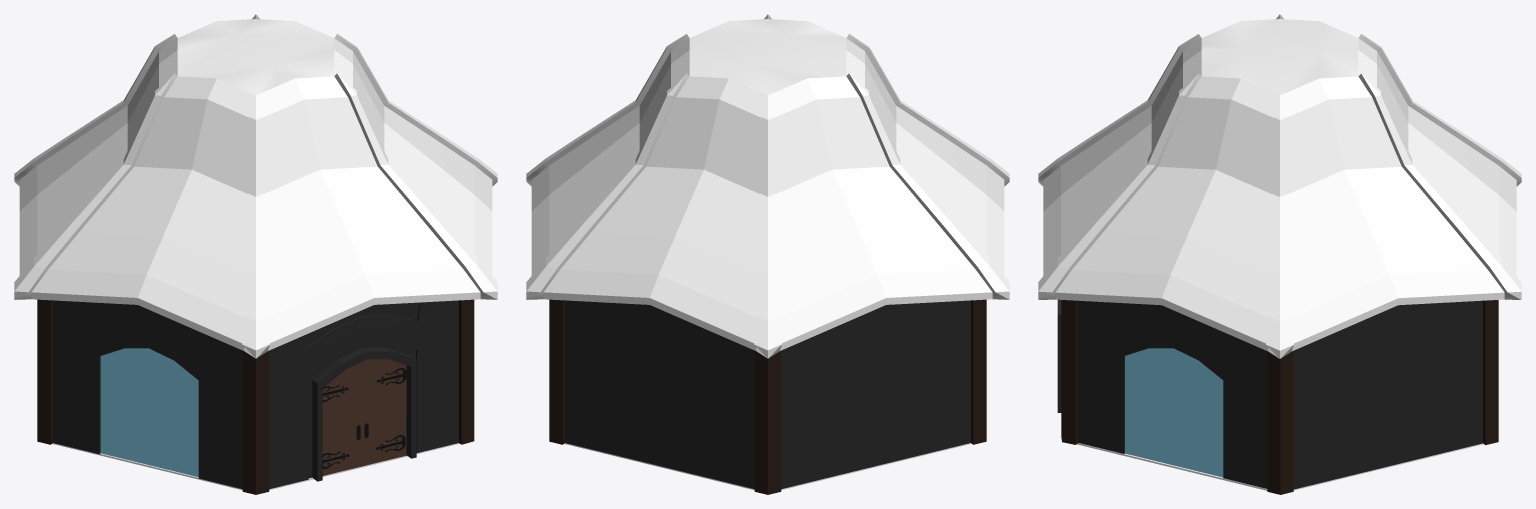
File: officewroof.fbx
3 renders of one model, left to right at view 1: azimuth 30°, elevation 25°; view 2: azimuth 150°, elevation 25°; view 3: azimuth 270°, elevation 25°, orthographic.
Parts seen in each view (by area): view 1: roof, polySurface14, polySurface15, polySurface11, rightdoor, polySurface19, leftdoor, polySurface25, polySurface20, hinges, floor; view 2: roof, polySurface35, polySurface37, polySurface27, polySurface25, polySurface29, floor; view 3: roof, polySurface39, polySurface17, polySurface7, polySurface30, polySurface20, polySurface29, floor, polySurface14.
Boxes of the visible parts, x1,y1,x2,y2 form: roof: [14, 14, 497, 358]; polySurface14: [269, 300, 458, 488]; polySurface15: [53, 300, 242, 488]; polySurface11: [100, 348, 198, 476]; rightdoor: [362, 359, 406, 466]; polySurface19: [242, 351, 269, 494]; leftdoor: [322, 361, 362, 475]; polySurface25: [37, 299, 52, 444]; polySurface20: [459, 299, 474, 444]; hinges: [322, 368, 406, 468]; floor: [52, 443, 459, 490]; roof: [526, 14, 1009, 358]; polySurface35: [781, 300, 970, 488]; polySurface37: [565, 300, 754, 488]; polySurface27: [754, 351, 781, 494]; polySurface25: [971, 299, 986, 444]; polySurface29: [549, 299, 564, 444]; floor: [564, 443, 971, 490]; roof: [1038, 14, 1521, 358]; polySurface39: [1293, 300, 1482, 489]; polySurface17: [1078, 300, 1267, 488]; polySurface7: [1125, 348, 1223, 477]; polySurface30: [1267, 351, 1293, 494]; polySurface20: [1061, 300, 1077, 444]; polySurface29: [1483, 300, 1498, 445]; floor: [1077, 443, 1483, 490]; polySurface14: [1057, 299, 1061, 412].
Size of the model in its own units: 1646 by 1107 by 1425.
